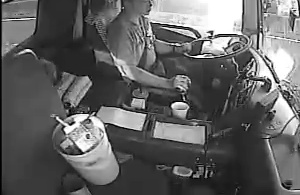paper: (91, 104, 147, 132)
